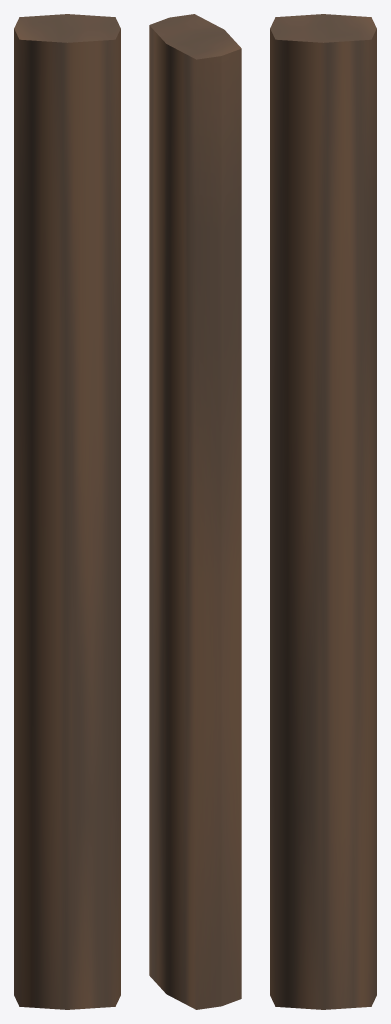
Rendered from GAMEJAMPUFFER - Sign Stick.fbx.
3 views of the same model, side by side, from view 1: azimuth 90°, elevation 25°; view 2: azimuth 210°, elevation 25°; view 3: azimuth 270°, elevation 25° (orthographic).
Parts seen in each view (by area): view 1: Stick; view 2: Stick; view 3: Stick.
Boxes of the visible parts, x1,y1,x2,y2 form: Stick: (14, 14, 120, 1009); Stick: (149, 14, 241, 1009); Stick: (270, 14, 376, 1009).
Bounding box in the file's own units: 6.4 × 100 × 10.
Materials: 1 (1 with a texture image).
